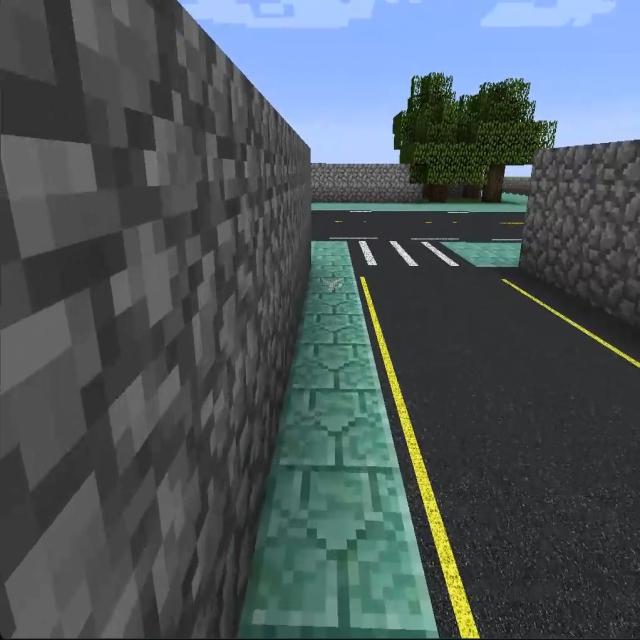crosswalk: (350, 240, 464, 271)
road: (361, 268, 634, 639), (316, 213, 525, 237)
sidewalk: (239, 242, 439, 639), (312, 201, 525, 213), (442, 242, 520, 267), (502, 193, 527, 206)
